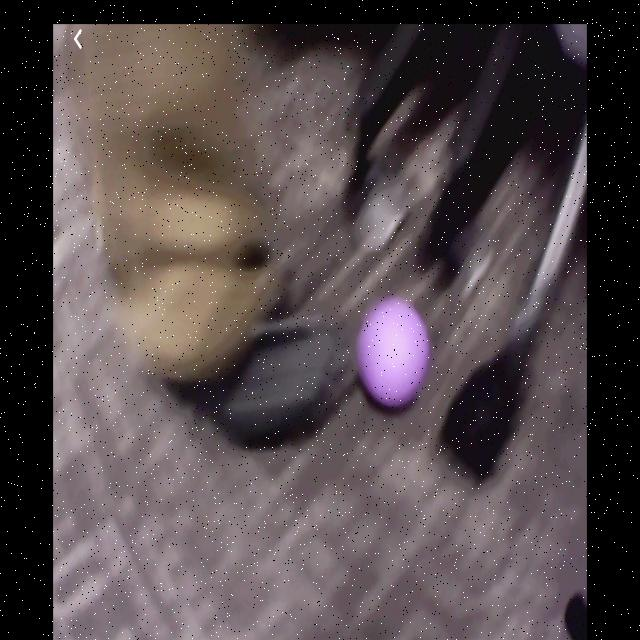ball: (356, 299, 433, 407)
